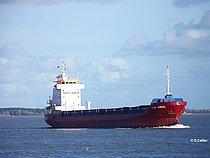Ship: (41, 57, 190, 131)
